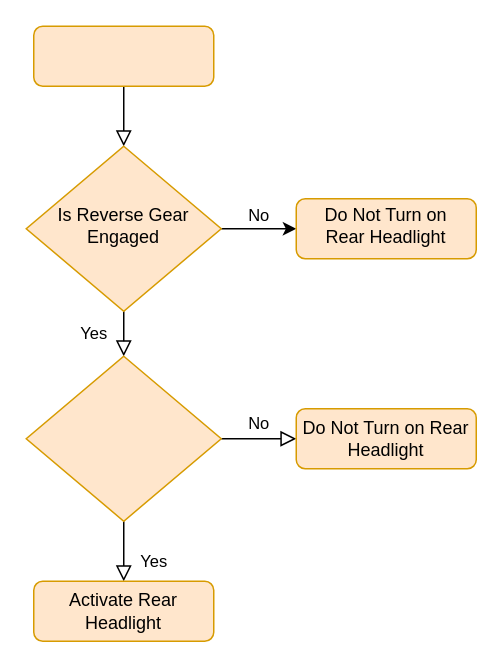
Some shapes in this 503 by 668 pixel diagram are drawn without their labels. The centre of each missing label's shape, as x and y in pixels:
"Gear Data" belongs at point (123, 55).
"Is Front Headlight Activated" belongs at point (123, 438).
